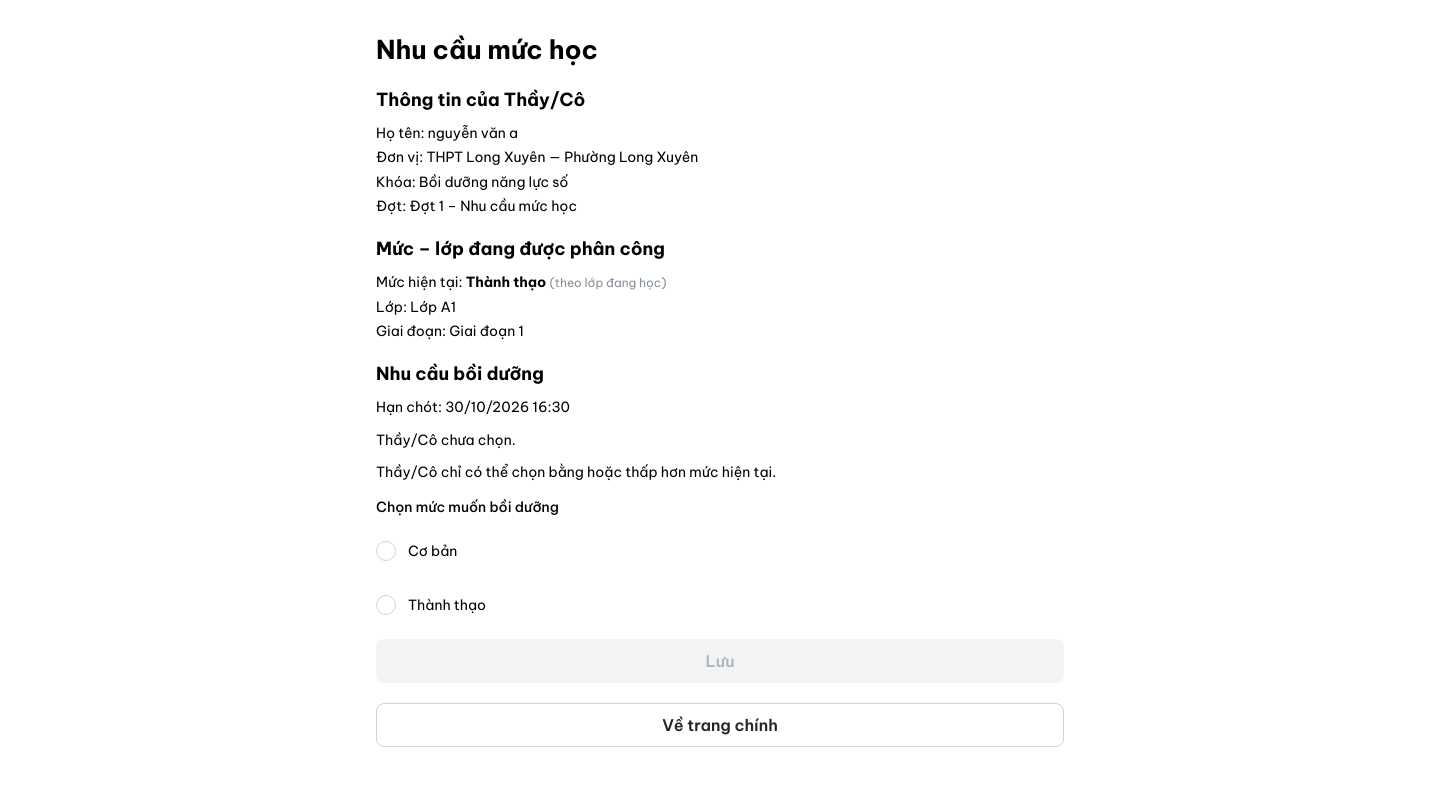
M9 — chọn nhu cầu mức học (ADR 0013) › Lưu → modal xác nhận → Xác nhận gọi PUT và báo thành công
What coordinates should you click on to do the following:
click the radio button labelled "Cơ bản"
I would click on:
 (386, 551)
Its box is top-left (376, 541), bottom-right (396, 561).
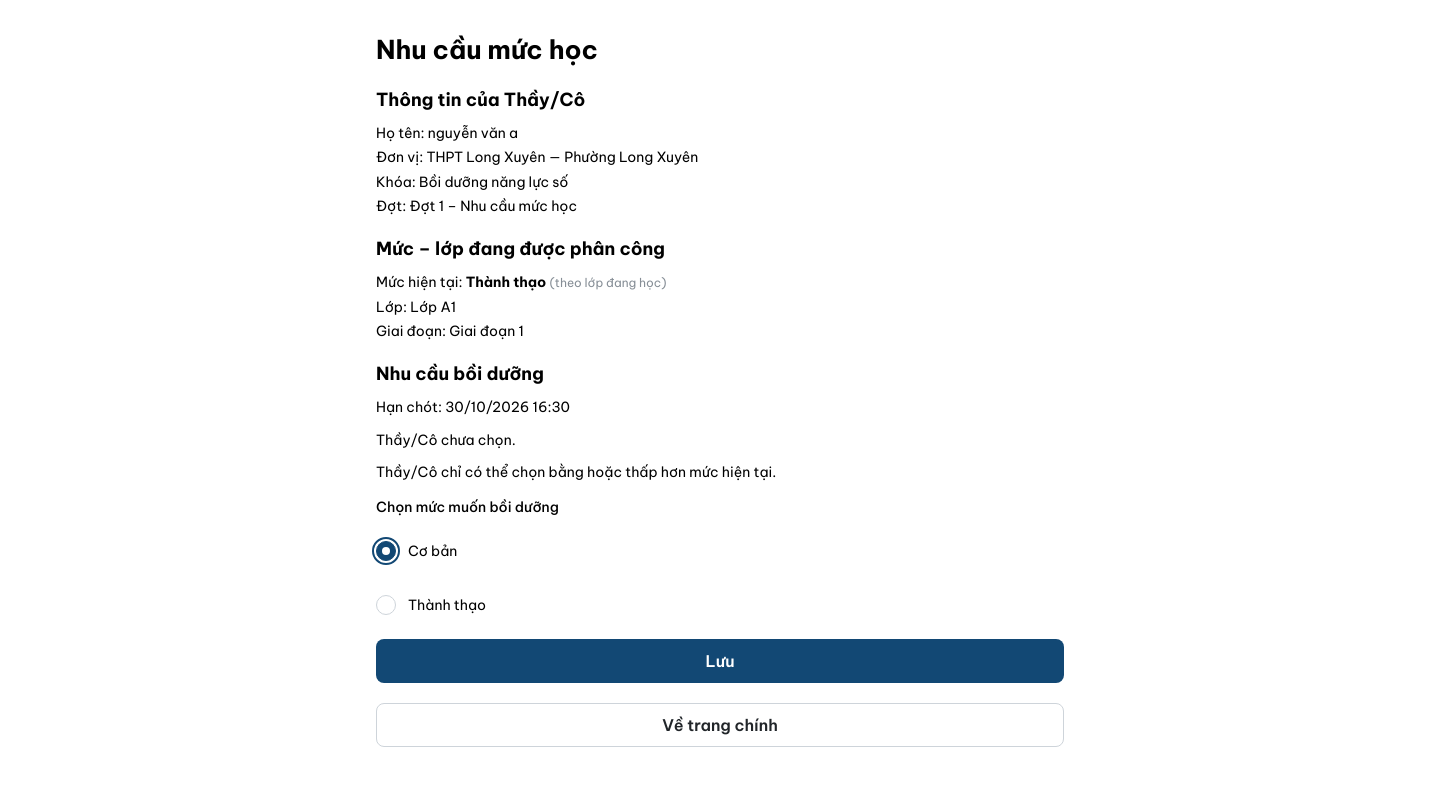
What coordinates should you click on to do the following:
click the button "Lưu"
I would click on:
 (720, 661)
Its box is top-left (376, 639), bottom-right (1064, 683).
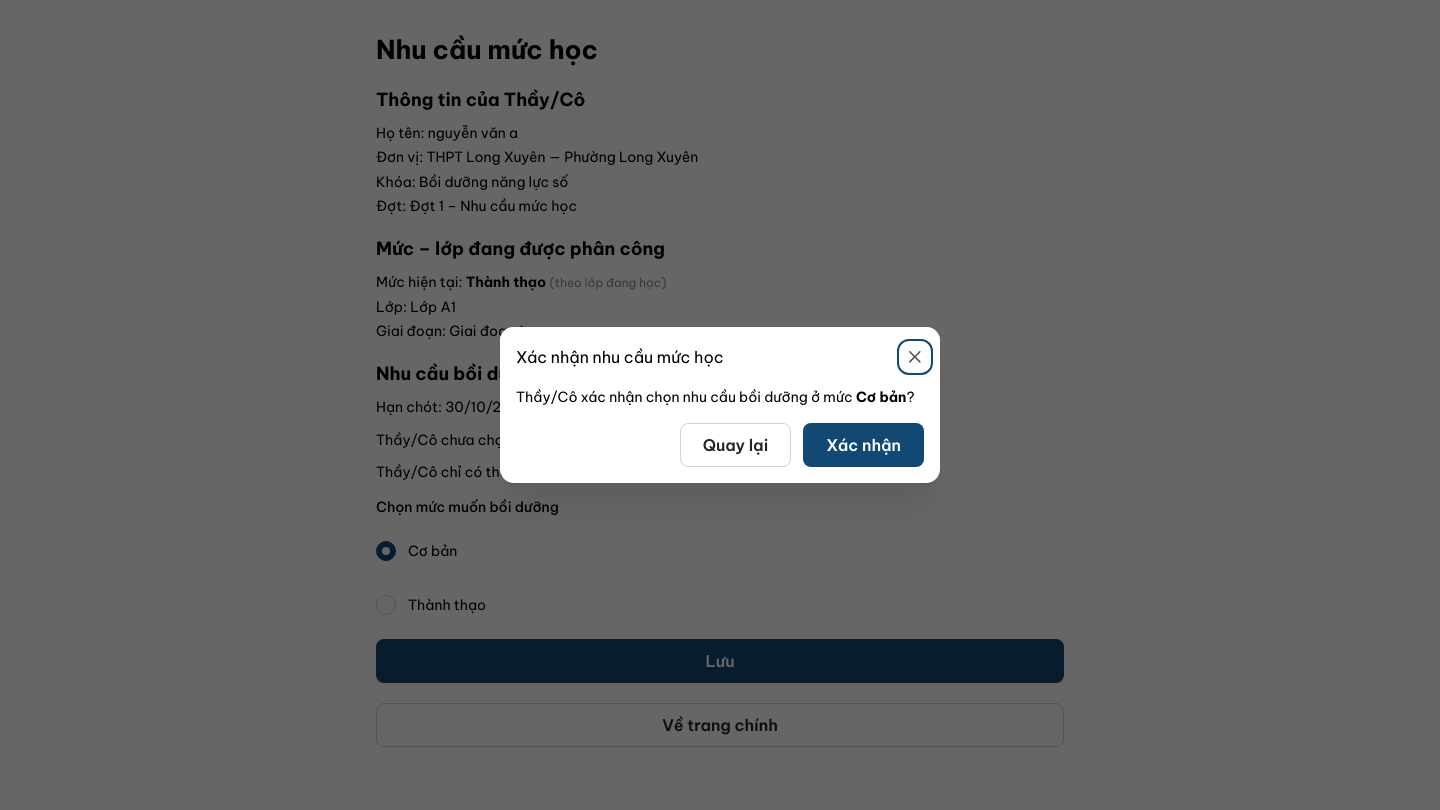
Now the text "Thầy/Cô xác nhận chọn nhu cầu bồi dưỡng ở mức Cơ bản?" is shown, box top-left (516, 387), bottom-right (924, 407)
What coordinates should you click on to do the following:
click the button "Xác nhận"
I would click on:
 (864, 445)
Its box is top-left (803, 423), bottom-right (924, 467).
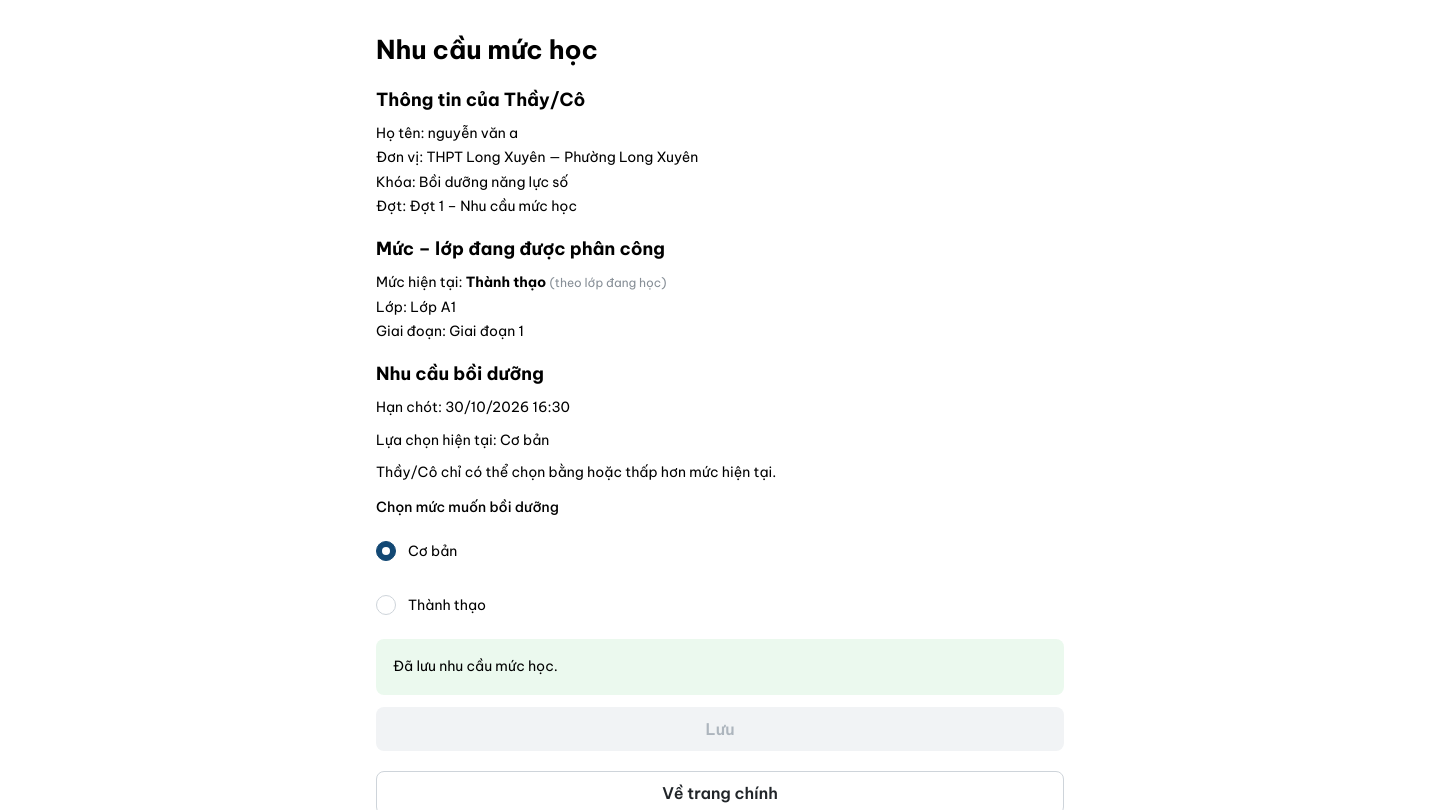
Now the text "Đã lưu nhu cầu mức học." is shown, box top-left (393, 657), bottom-right (558, 675)
